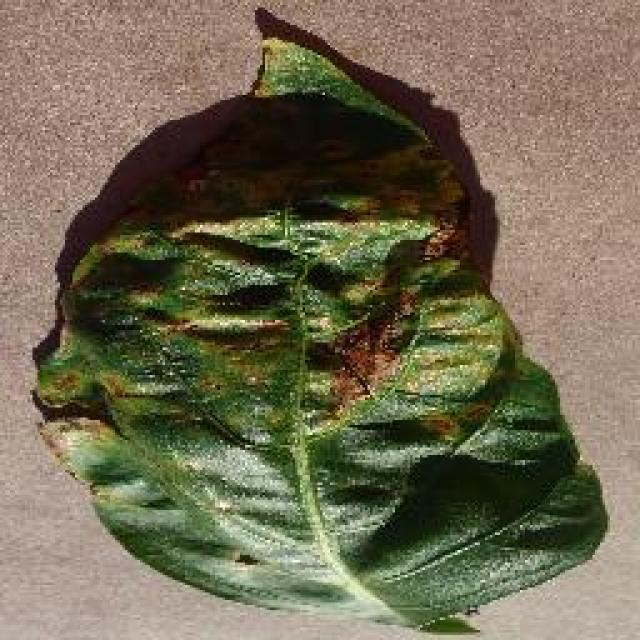Chilli_Bacterial_Spot: (28, 8, 610, 638), (63, 202, 505, 442), (392, 288, 508, 408), (207, 278, 295, 312), (332, 275, 388, 313), (228, 545, 262, 570)
